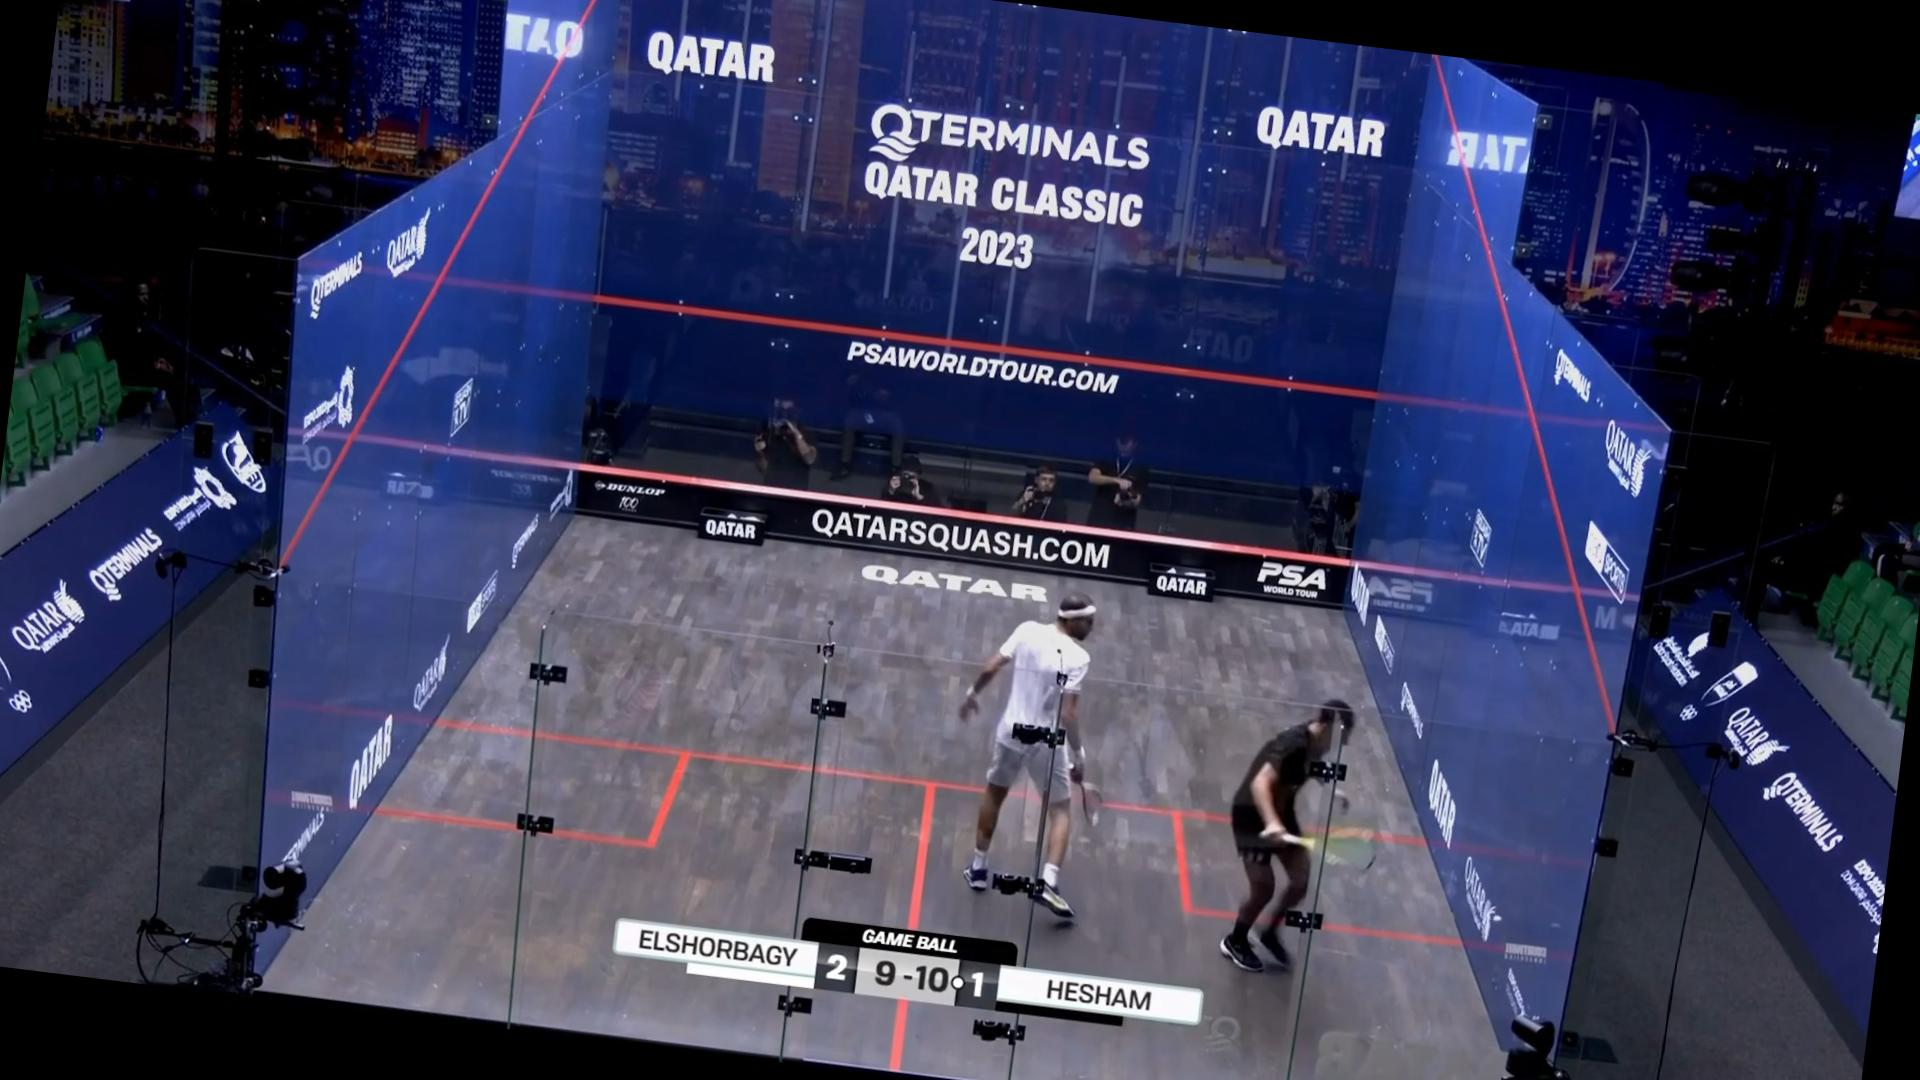Squash-Ball: (1486, 905, 1507, 930)
